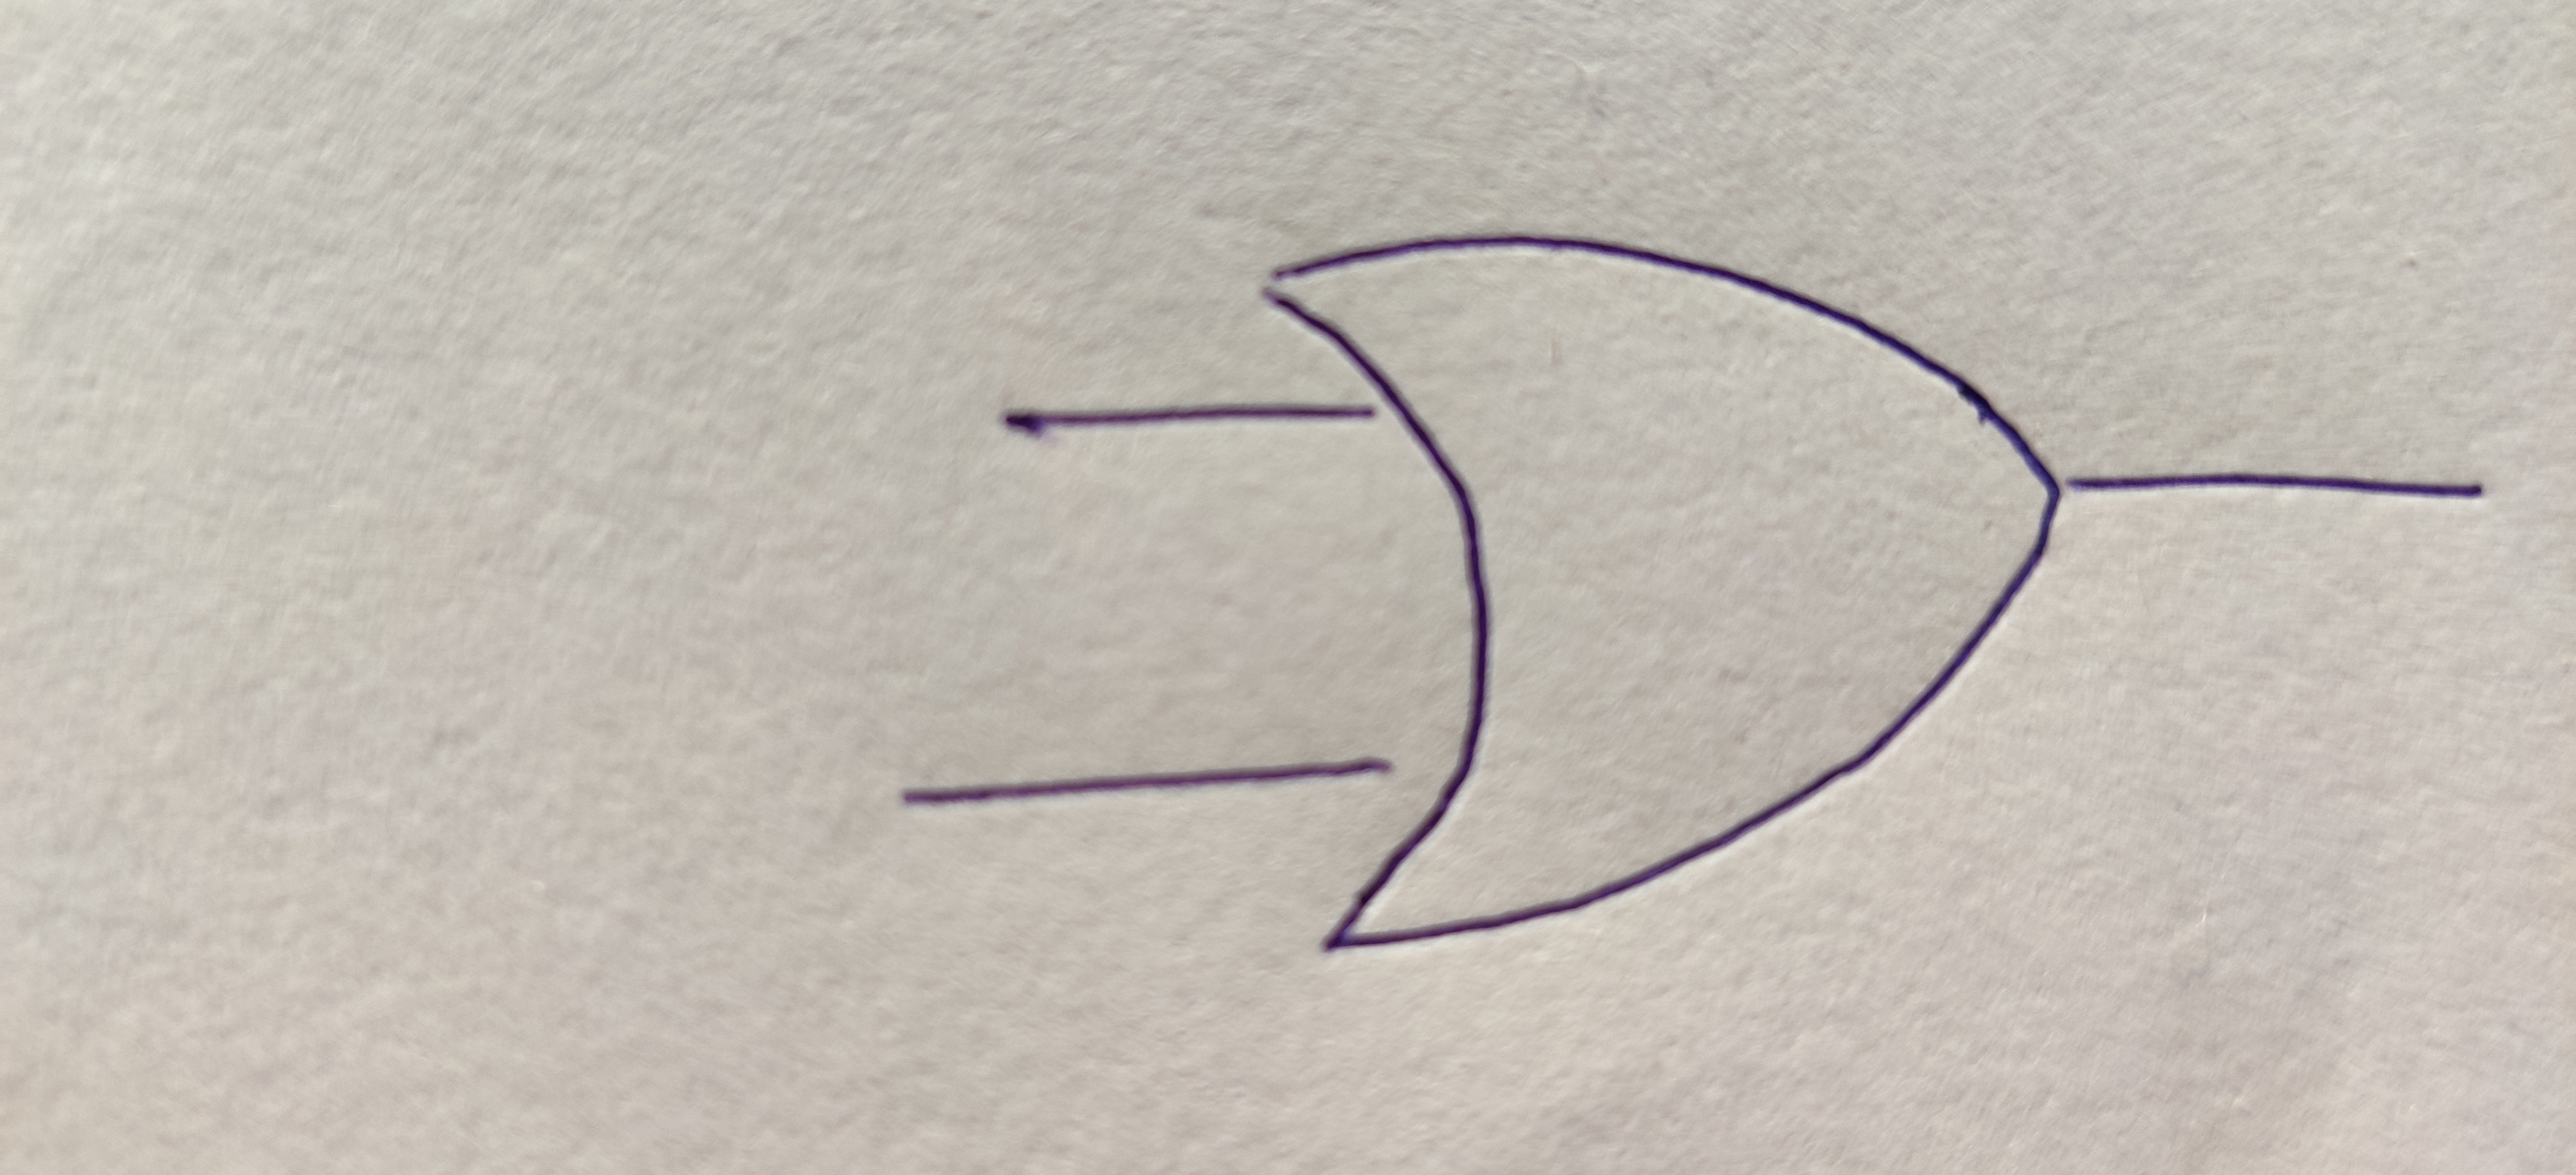or: (1270, 235, 2065, 943)
